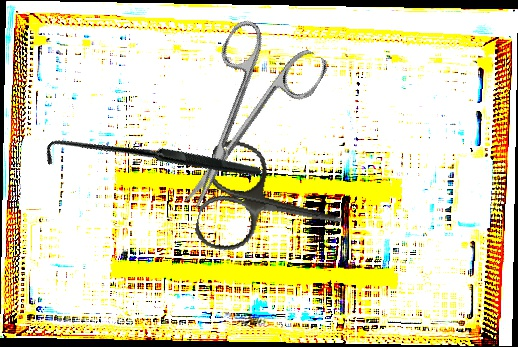Hook Surgical: (39, 50, 262, 275)
Iris Scissors: (144, 11, 331, 229), (191, 136, 355, 275)
